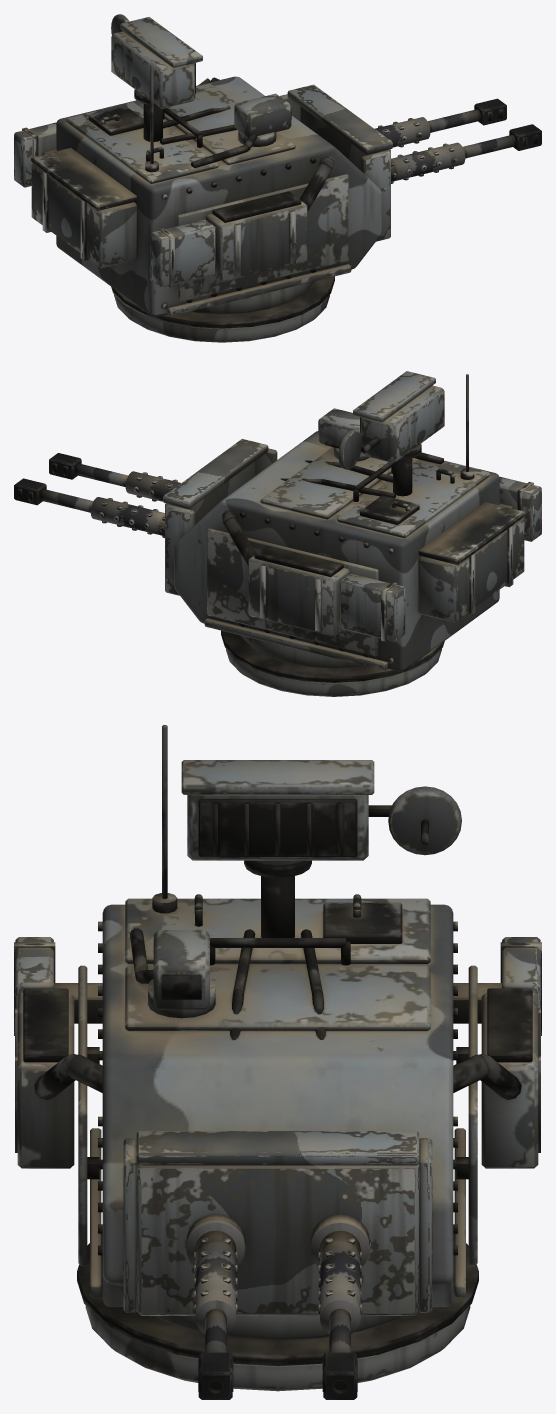
The model's file is turret_grach_evo_shark.glb.
The picture shows the model from 3 angles, top to bottom: view 1: azimuth 30°, elevation 25°; view 2: azimuth 150°, elevation 25°; view 3: azimuth 270°, elevation 25°; orthographic projection. The views are drawn at different scales.
Visible parts, largest first — view 1: turret_light_evo, guns, pods; view 2: turret_light_evo, guns, pods; view 3: turret_light_evo, guns, pods.
Part boxes in pixels (x1,y1,x2,y2): turret_light_evo: [31, 14, 381, 342]; guns: [280, 84, 541, 241]; pods: [14, 122, 215, 287]; turret_light_evo: [174, 371, 524, 696]; guns: [14, 439, 277, 595]; pods: [340, 476, 541, 641]; turret_light_evo: [15, 725, 540, 1391]; guns: [123, 1131, 432, 1399]; pods: [14, 937, 541, 1035].
Bounding box in the file's own units: 1.86 × 1.09 × 1.05.
Materials: 3 (3 with a texture image).
